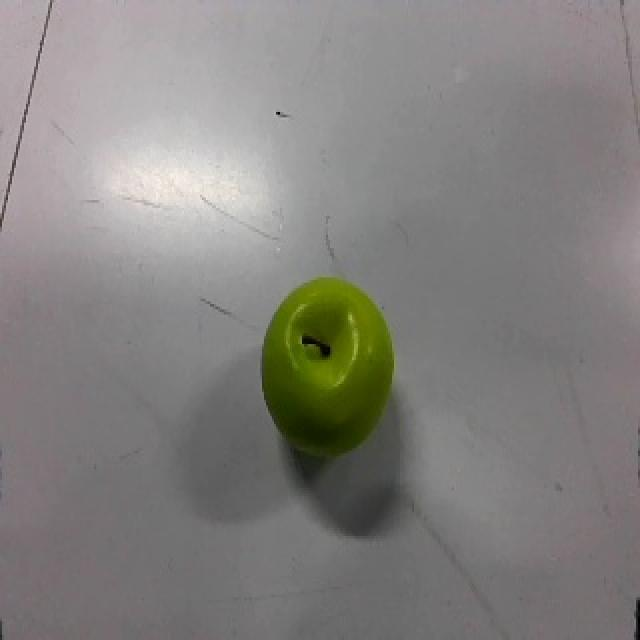apple: (260, 273, 396, 464)
